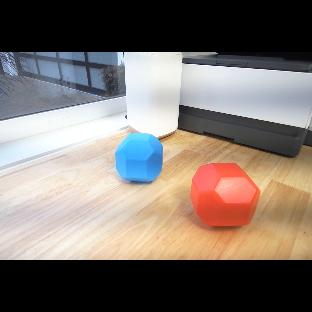V5_BLUE: (116, 131, 165, 184)
V5_RED: (191, 161, 262, 228)
